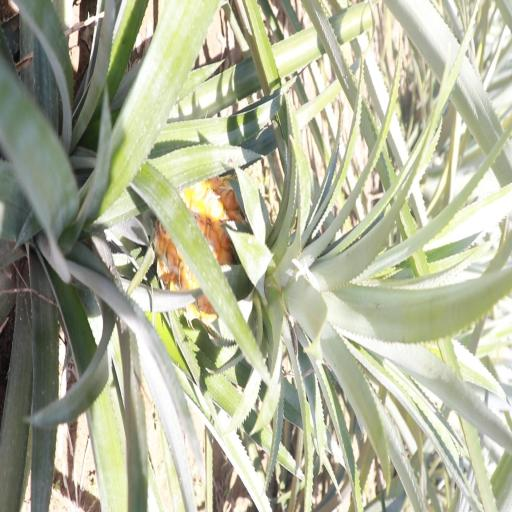Pineapple - v8 v1: (157, 170, 366, 345)
